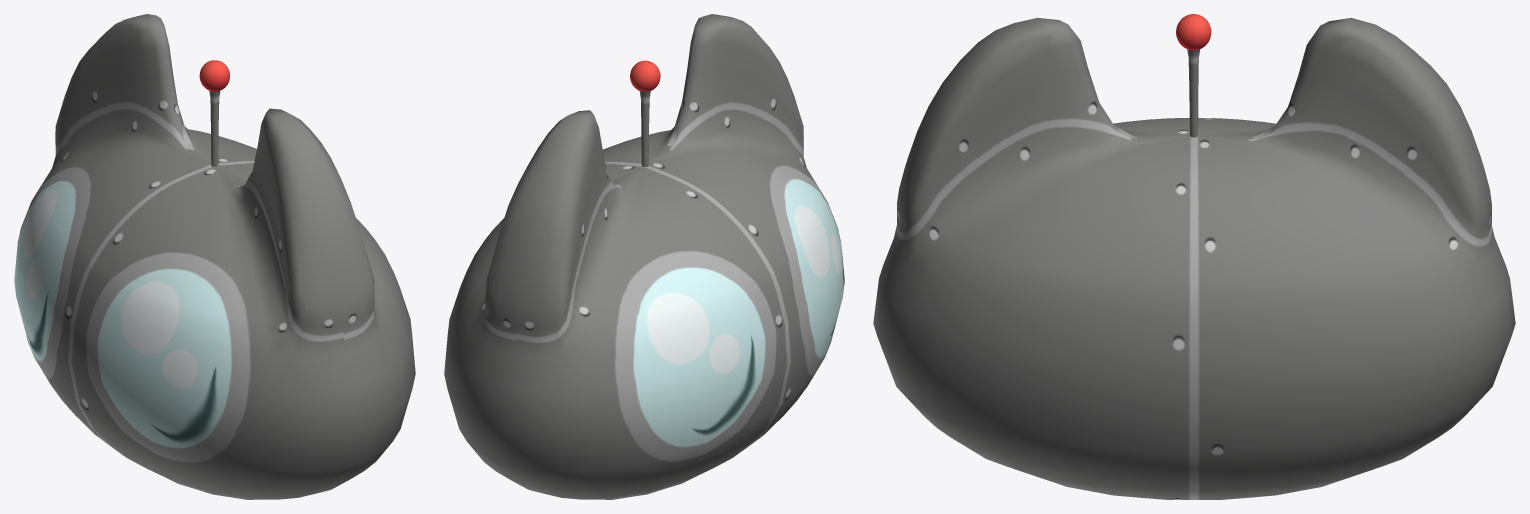
The model's file is catSatalite.fbx.
3 views of the same model, side by side, from view 1: azimuth 30°, elevation 25°; view 2: azimuth 150°, elevation 25°; view 3: azimuth 270°, elevation 25° (orthographic). The views are drawn at different scales.
Visible parts, largest first — view 1: catSpaceShip_withUV:polySurface1; view 2: catSpaceShip_withUV:polySurface1; view 3: catSpaceShip_withUV:polySurface1.
Boxes of the visible parts, left/top/right/bottom form: catSpaceShip_withUV:polySurface1: left=14, top=14, right=415, bottom=499; catSpaceShip_withUV:polySurface1: left=444, top=14, right=844, bottom=499; catSpaceShip_withUV:polySurface1: left=873, top=14, right=1515, bottom=499.
Bounding box in the file's own units: 15.18 × 20.2 × 25.15.
